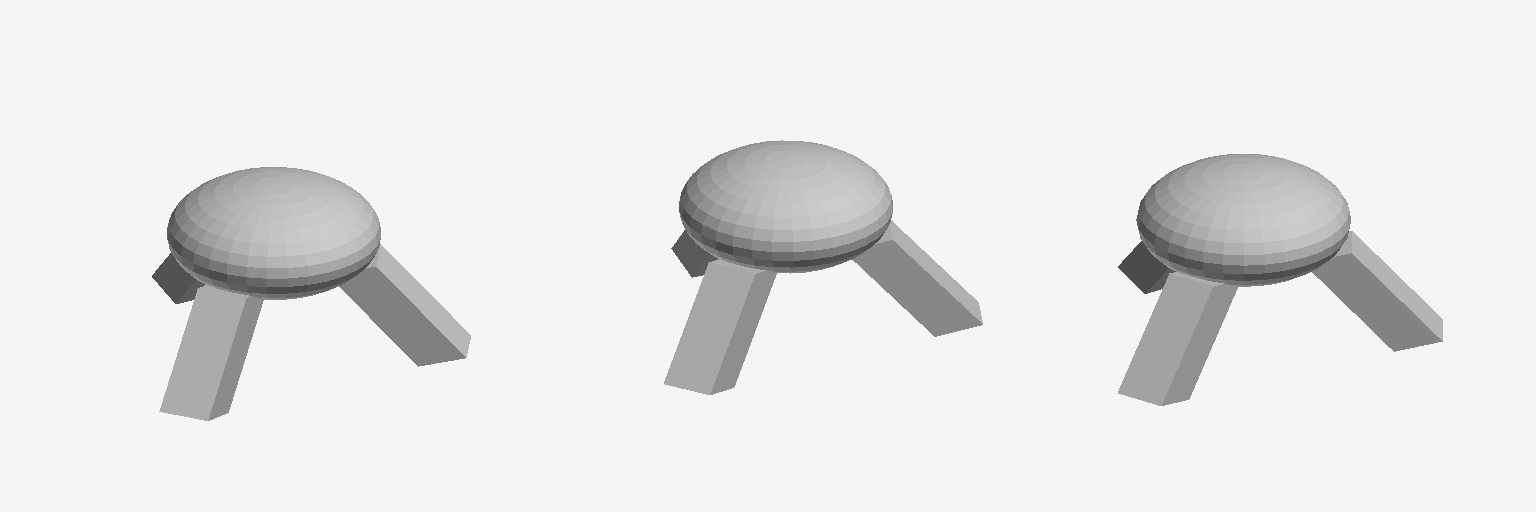
The model's file is Turret.obj.
3 views of the same model, side by side, from view 1: azimuth 30°, elevation 25°; view 2: azimuth 150°, elevation 25°; view 3: azimuth 270°, elevation 25° (orthographic).
Visible parts, largest first — view 1: Sphere, Cube.002_Cube.003, Cube.001_Cube.002, Cube_Cube.001; view 2: Sphere, Cube_Cube.001, Cube.002_Cube.003, Cube.001_Cube.002; view 3: Sphere, Cube.001_Cube.002, Cube_Cube.001, Cube.002_Cube.003.
Boxes of the visible parts, x1,y1,x2,y2 form: Sphere: [167, 167, 380, 299]; Cube.002_Cube.003: [159, 285, 263, 420]; Cube.001_Cube.002: [339, 244, 470, 366]; Cube_Cube.001: [152, 252, 204, 303]; Sphere: [679, 140, 892, 273]; Cube_Cube.001: [664, 259, 776, 394]; Cube.002_Cube.003: [852, 220, 982, 336]; Cube.001_Cube.002: [671, 230, 717, 277]; Sphere: [1136, 154, 1350, 286]; Cube.001_Cube.002: [1118, 272, 1237, 405]; Cube_Cube.001: [1312, 231, 1442, 351]; Cube.002_Cube.003: [1118, 241, 1175, 293].
Bounding box in the file's own units: 3.35 × 1.73 × 3.03.